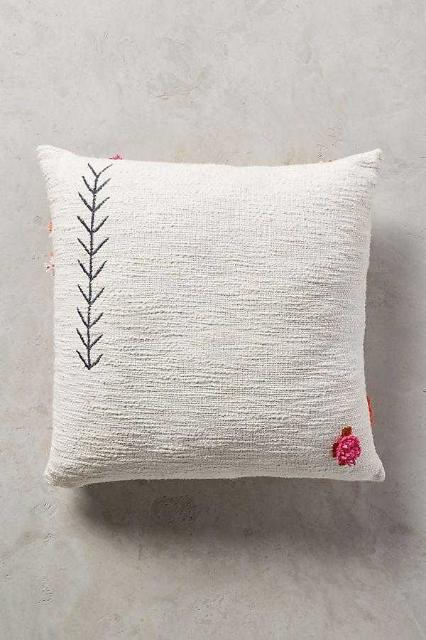pillow: (35, 142, 386, 488)
